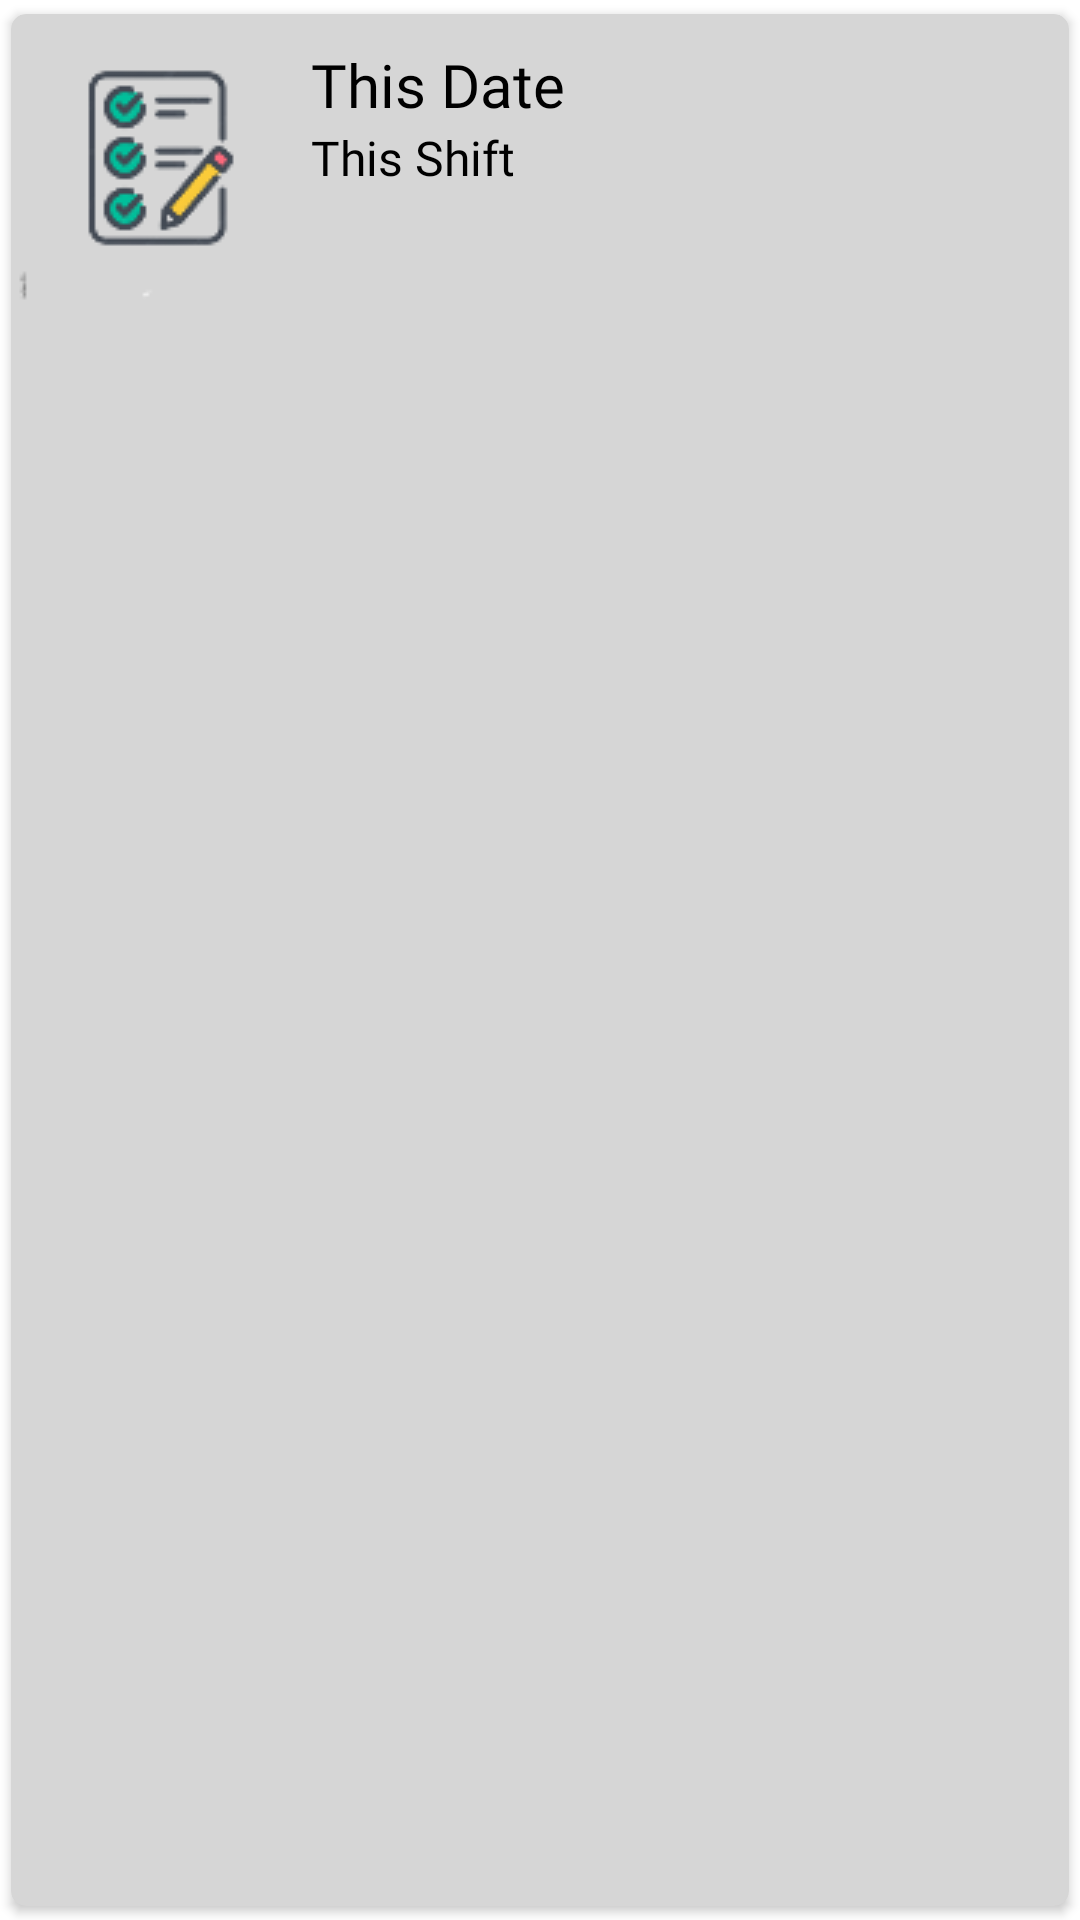

Icon bounding boxes for this 1080px x 1920px phone screenshot, format bbox=(x1, y1, x2, y2):
exam: bbox=(20, 70, 234, 298)
